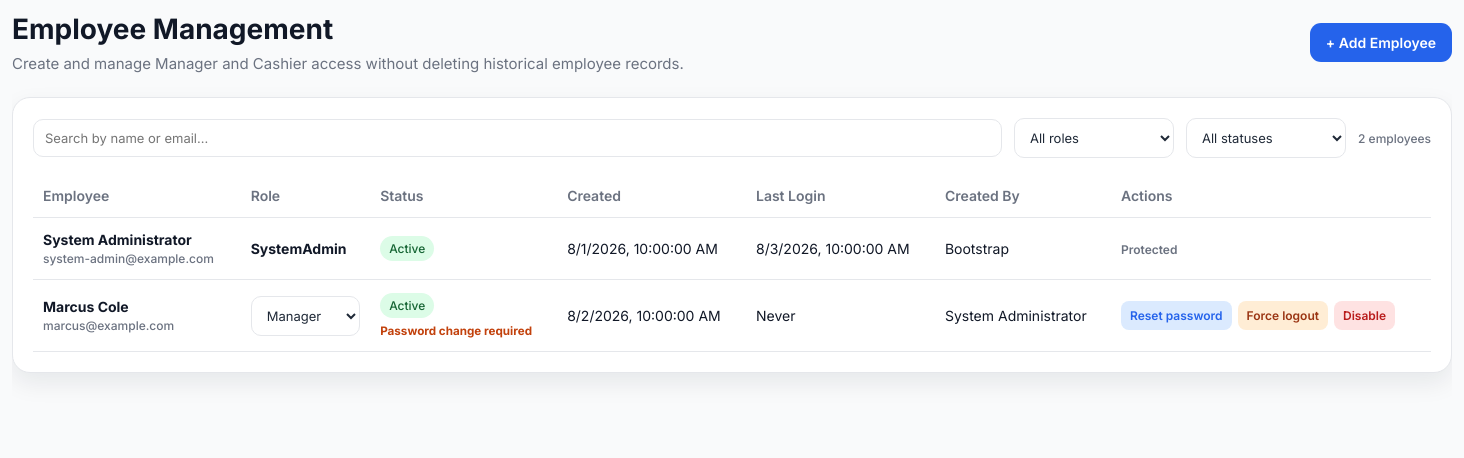
EmployeeManagement › changes an employee role and account status
The image size is (1464, 458).
expect the text "Marcus Cole" is shown: met, box [43,298,129,315]
Select "Cashier" in the dropdown named "Role for Marcus Cole" at coordinates (305, 316), box [251,296,360,336]
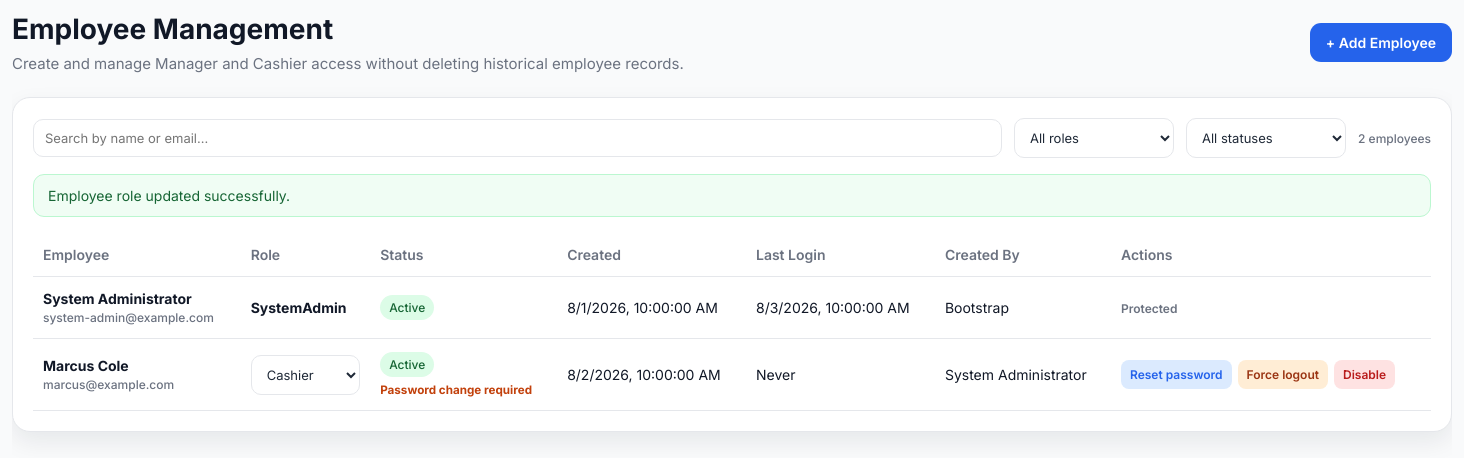
Click the button "Disable" at coordinates (1364, 374), box [1334,360,1395,389]
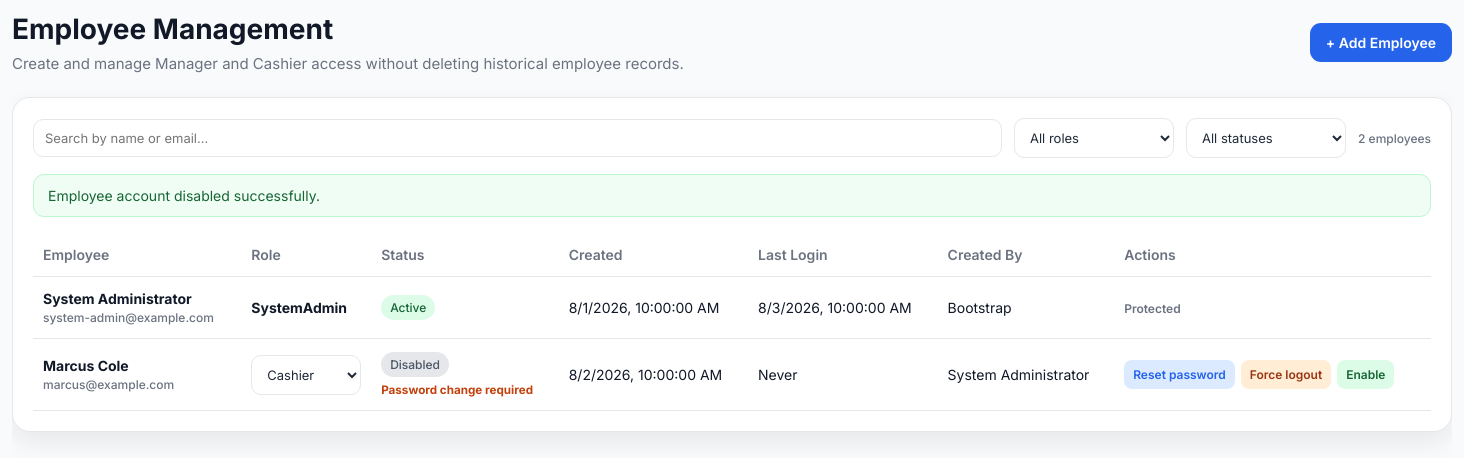
expect the button "Enable" is shown: met, box [1337,360,1394,389]
